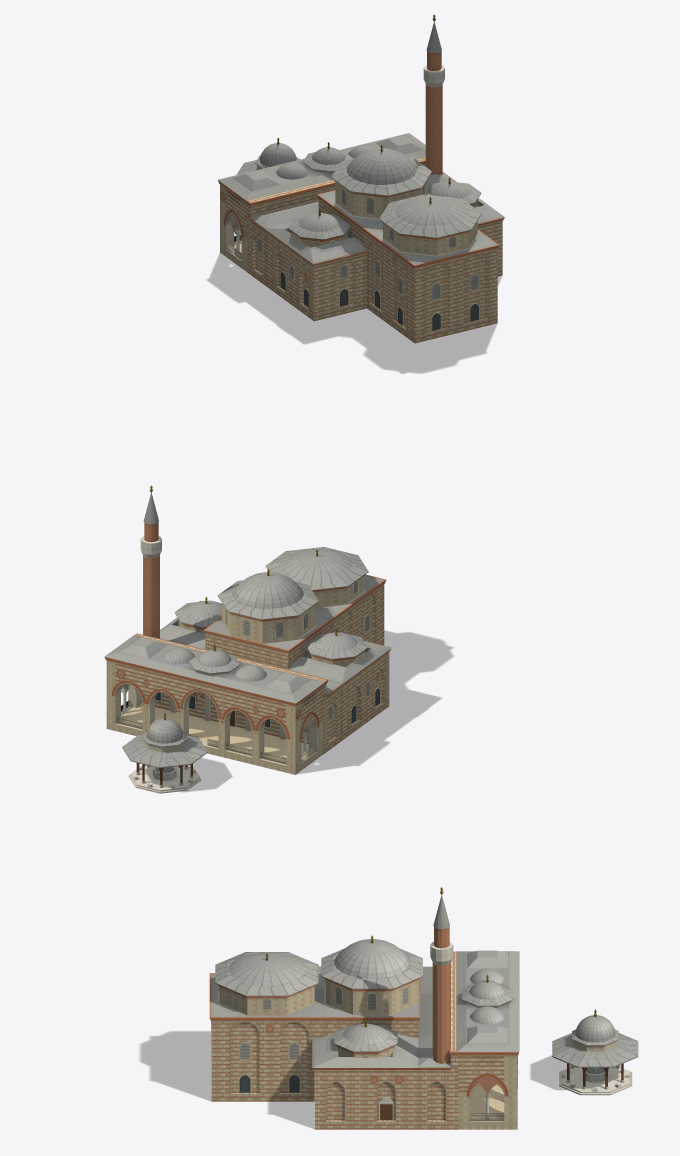
The model's file is orhan-bey-camii_v11_harita_pisik.glb.
3 renders of one model, top to bottom at view 1: azimuth 30°, elevation 25°; view 2: azimuth 150°, elevation 25°; view 3: azimuth 270°, elevation 25°, orthographic. The views are drawn at different scales.
Visible parts, largest first — view 1: Cami_Govde, Harita_Golge, Cami_Mihrap, Cami_SonCemaat, Kubbe_Mihrap, Kubbe_Ana, Cami_Ortu, Minare, Kubbe_Tabhaneler, Sadirvan; view 2: Cami_SonCemaat, Cami_Govde, Harita_Golge, Kubbe_Ana, Sadirvan, Kubbe_Mihrap, Cami_Ortu, Kubbe_Tabhaneler, Minare, Cami_Mihrap, Kubbe_Pencereler; view 3: Cami_Govde, Cami_SonCemaat, Cami_Mihrap, Kubbe_Ana, Kubbe_Mihrap, Harita_Golge, Cami_Ortu, Sadirvan, Minare, Kubbe_Tabhaneler, Kubbe_Pencereler.
Boxes of the visible parts, x1,y1,x2,y2 form: Cami_Govde: (218,142,504,331); Harita_Golge: (207,253,501,373); Cami_Mihrap: (362,231,497,343); Cami_SonCemaat: (218,133,425,272); Kubbe_Mihrap: (379,194,481,255); Kubbe_Ana: (331,148,432,218); Cami_Ortu: (249,172,505,264); Minare: (423,14,444,174); Kubbe_Tabhaneler: (288,181,481,247); Sadirvan: (236,137,300,174); Cami_SonCemaat: (104,635,324,774); Cami_Govde: (104,574,390,757); Harita_Golge: (181,631,453,791); Kubbe_Ana: (218,572,318,643); Sadirvan: (122,713,207,793); Kubbe_Mihrap: (265,547,368,607); Cami_Ortu: (160,575,391,694); Kubbe_Tabhaneler: (174,600,367,666); Minare: (140,485,161,638); Cami_Mihrap: (331,584,384,645); Kubbe_Pencereler: (205,549,360,659); Cami_Govde: (209,951,518,1129); Cami_SonCemaat: (456,950,519,1129); Cami_Mihrap: (211,1021,325,1101); Kubbe_Ana: (321,939,422,1014); Kubbe_Mihrap: (215,952,318,1015); Harita_Golge: (140,1031,566,1128); Cami_Ortu: (211,966,450,1067); Sadirvan: (552,1009,638,1095); Minare: (430,887,453,1063); Kubbe_Tabhaneler: (334,1023,397,1057); Kubbe_Pencereler: (219,935,419,1057).
Bounding box in the file's own units: 47.65 × 28.65 × 71.28.
2 materials, 2 textured.
